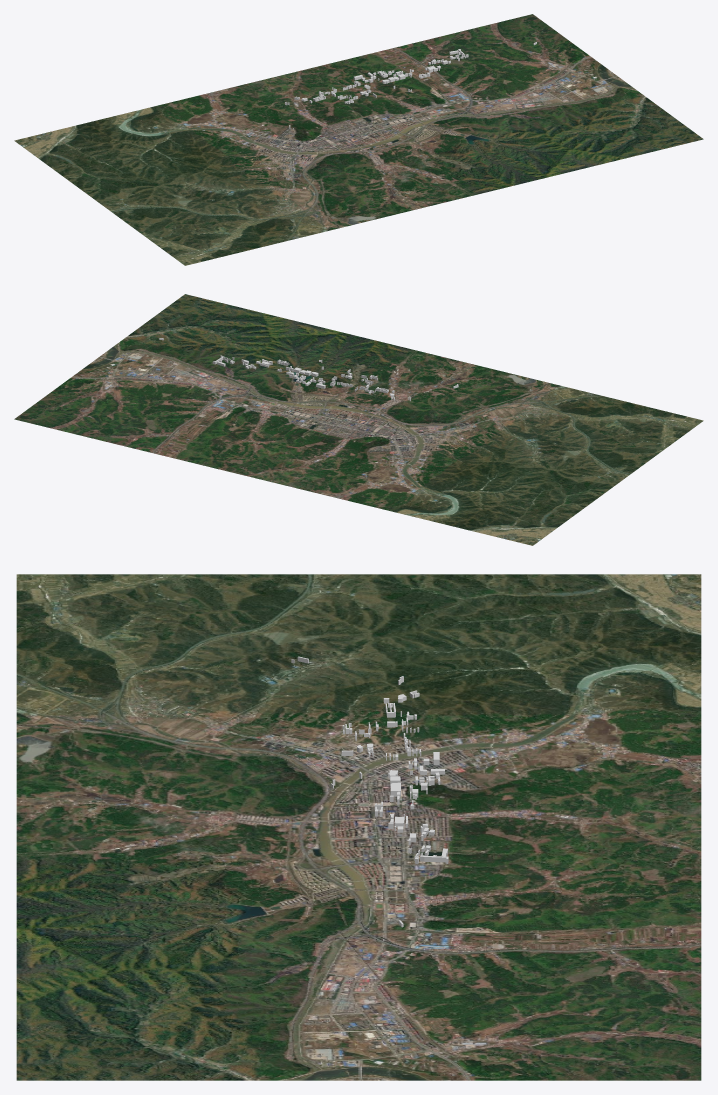
The model's file is thxcq.glb.
The picture shows the model from 3 angles, top to bottom: view 1: azimuth 30°, elevation 25°; view 2: azimuth 150°, elevation 25°; view 3: azimuth 270°, elevation 25°; orthographic projection. The views are drawn at different scales.
Visible parts, largest first — view 1: EXPORT_ESRI_AERIAL_WM; view 2: EXPORT_ESRI_AERIAL_WM; view 3: EXPORT_ESRI_AERIAL_WM.
Part boxes in pixels (x1,y1,x2,y2): EXPORT_ESRI_AERIAL_WM: [14, 14, 703, 265]; EXPORT_ESRI_AERIAL_WM: [14, 294, 703, 545]; EXPORT_ESRI_AERIAL_WM: [16, 574, 701, 1080].
Size of the model in its own units: 17122 by 1421 by 9784.
1 material, 1 textured.
